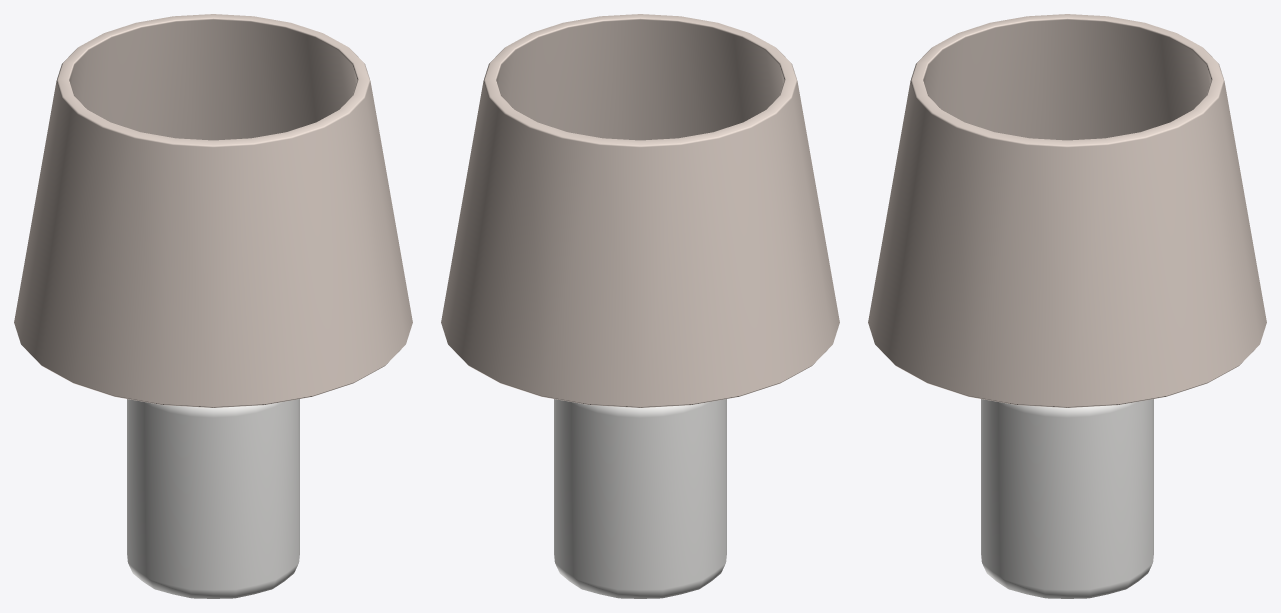
File: Lamp_4.glb
3 renders of one model, left to right at view 1: azimuth 30°, elevation 25°; view 2: azimuth 150°, elevation 25°; view 3: azimuth 270°, elevation 25°, orthographic.
Visible parts, largest first — view 1: Lamp_4; view 2: Lamp_4; view 3: Lamp_4.
Part boxes in pixels (x1,y1,x2,y2): Lamp_4: (14, 14, 412, 598); Lamp_4: (441, 14, 839, 598); Lamp_4: (868, 14, 1266, 598).
Size of the model in its own units: 0.4714 by 0.6403 by 0.4714.
Materials: 2 (1 with a texture image).
